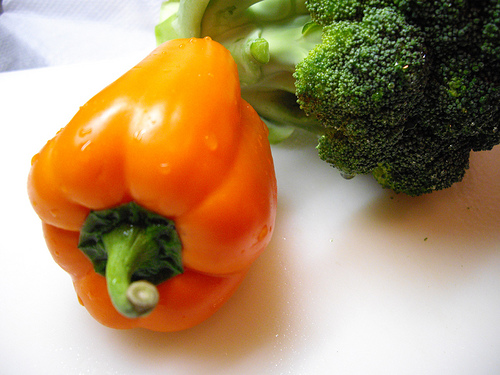broccoli: (155, 0, 493, 197)
